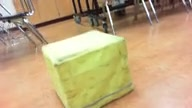cube: (41, 29, 135, 108)
